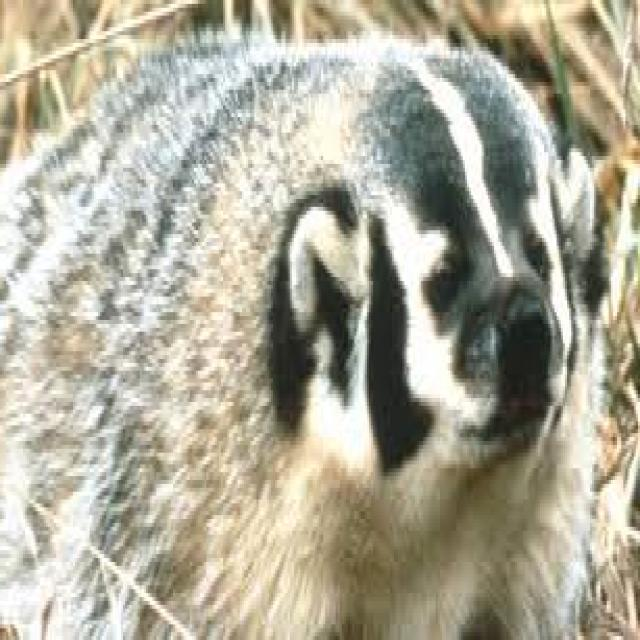badger: (4, 31, 607, 636)
